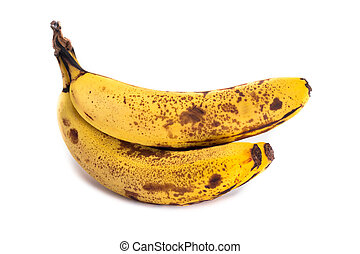looks_defective: (26, 40, 324, 163)
